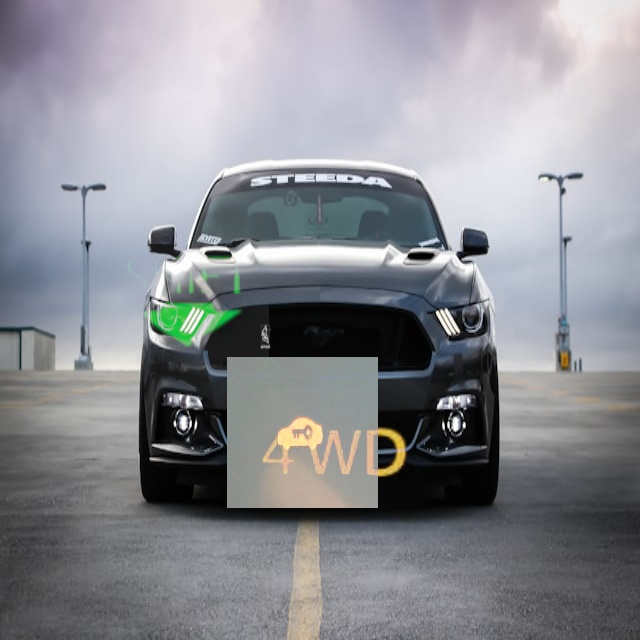symbol: (242, 364, 423, 545), (102, 214, 269, 381), (227, 357, 378, 508)
